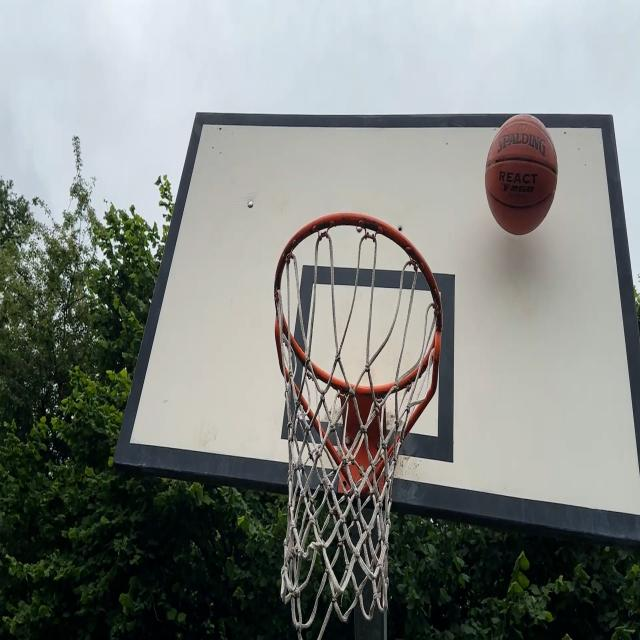Basketball: (485, 116, 557, 236)
